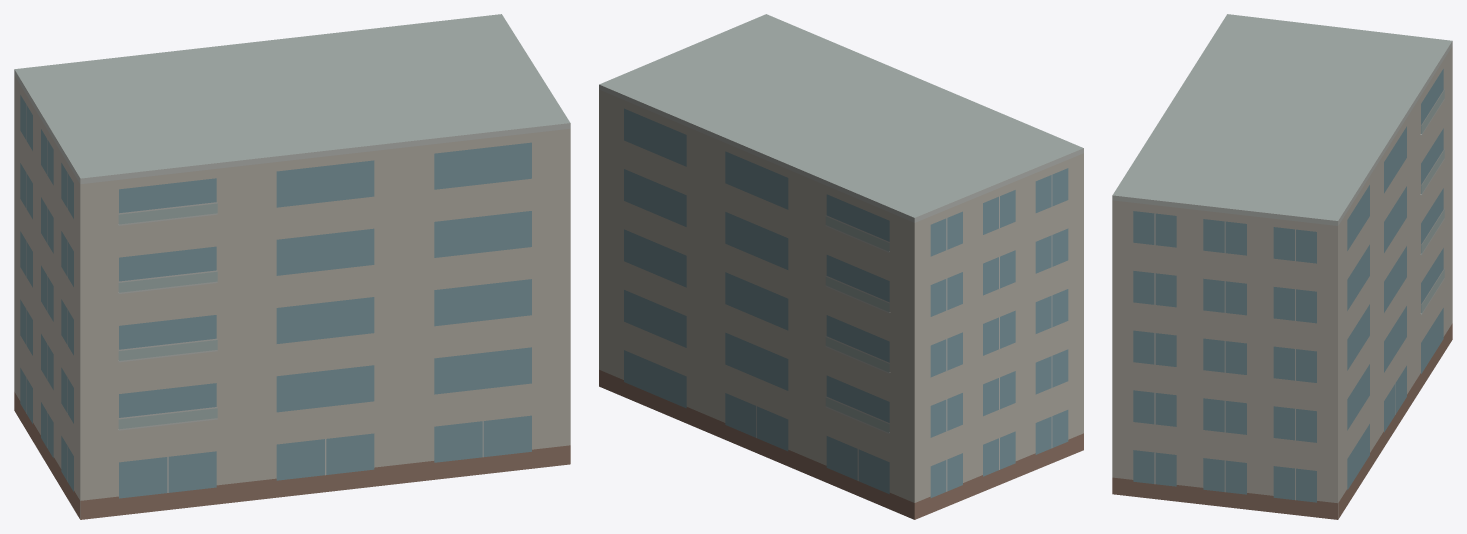
The model's file is survey-upis-32797830.glb.
The picture shows the model from 3 angles, left to right: view 1: azimuth 30°, elevation 25°; view 2: azimuth 150°, elevation 25°; view 3: azimuth 270°, elevation 25°; orthographic projection. The views are drawn at different scales.
Parts seen in each view (by area): view 1: survey-upis-32797830.tmp; view 2: survey-upis-32797830.tmp; view 3: survey-upis-32797830.tmp.
Part boxes in pixels (x1=…): survey-upis-32797830.tmp: x1=14, y1=14, x2=570, y2=519; survey-upis-32797830.tmp: x1=599, y1=14, x2=1083, y2=519; survey-upis-32797830.tmp: x1=1112, y1=14, x2=1452, y2=519.
Size of the model in its own units: 21.86 by 14.7 by 15.18.
